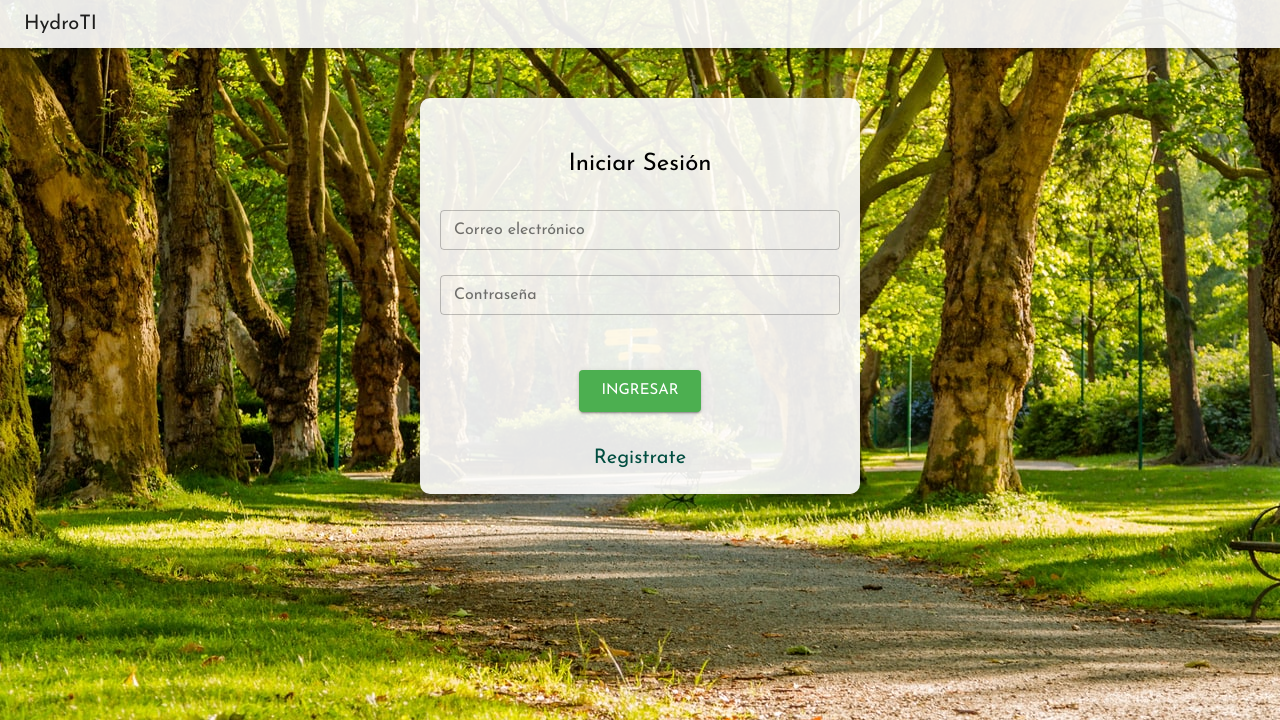
As an user I want to sign in to access the functionality › should show error message given incorrect credentials
The image size is (1280, 720).
Step 1. Type "mail@mail.com" into the field with id "sign-in-email" → (640, 230), box [440, 210, 840, 250]
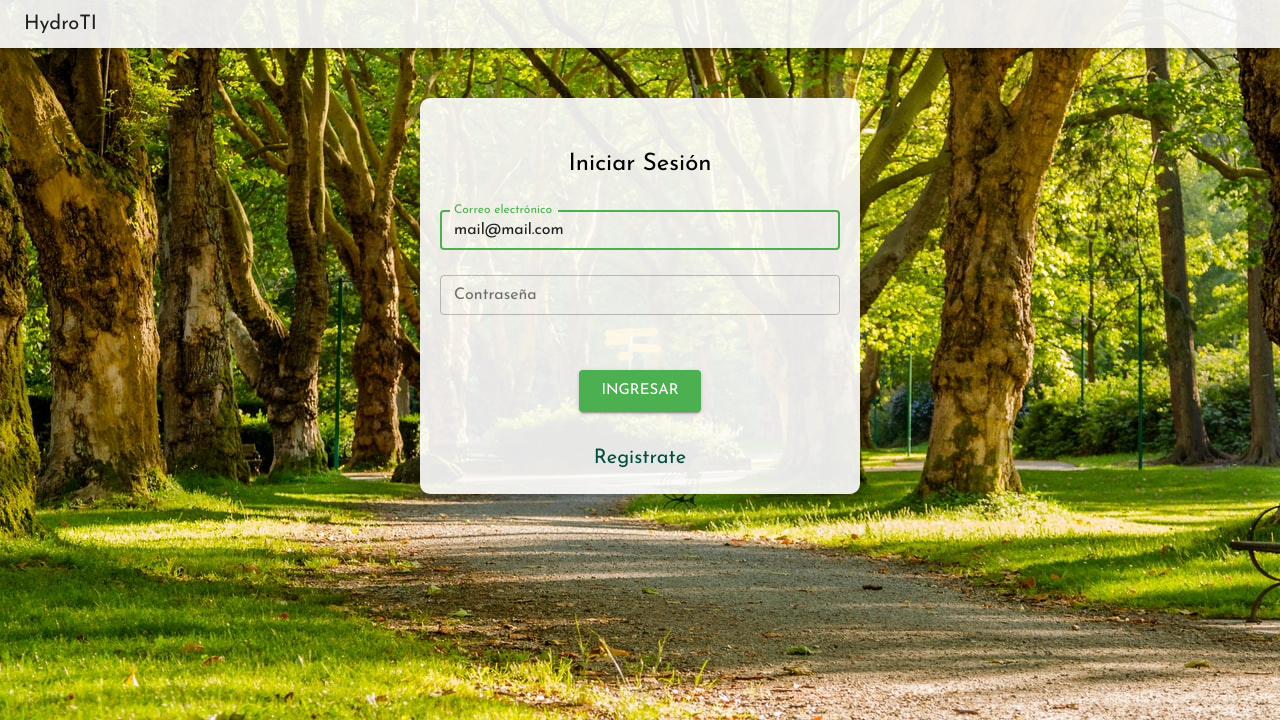
Step 2. Type "password" into the password field with id "sign-in-password" → (640, 295), box [440, 275, 840, 315]
Then press Enter
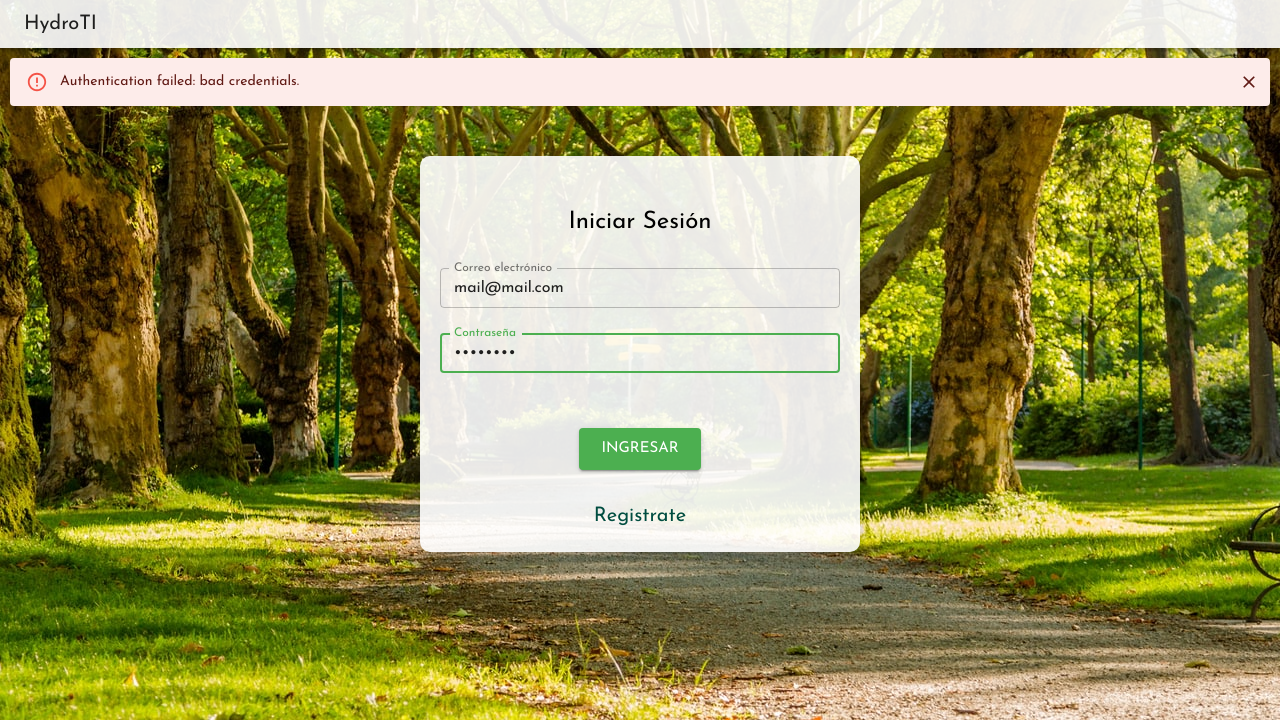
Now the text "Authentication failed: bad credentials." is shown, box [60, 74, 299, 89]
